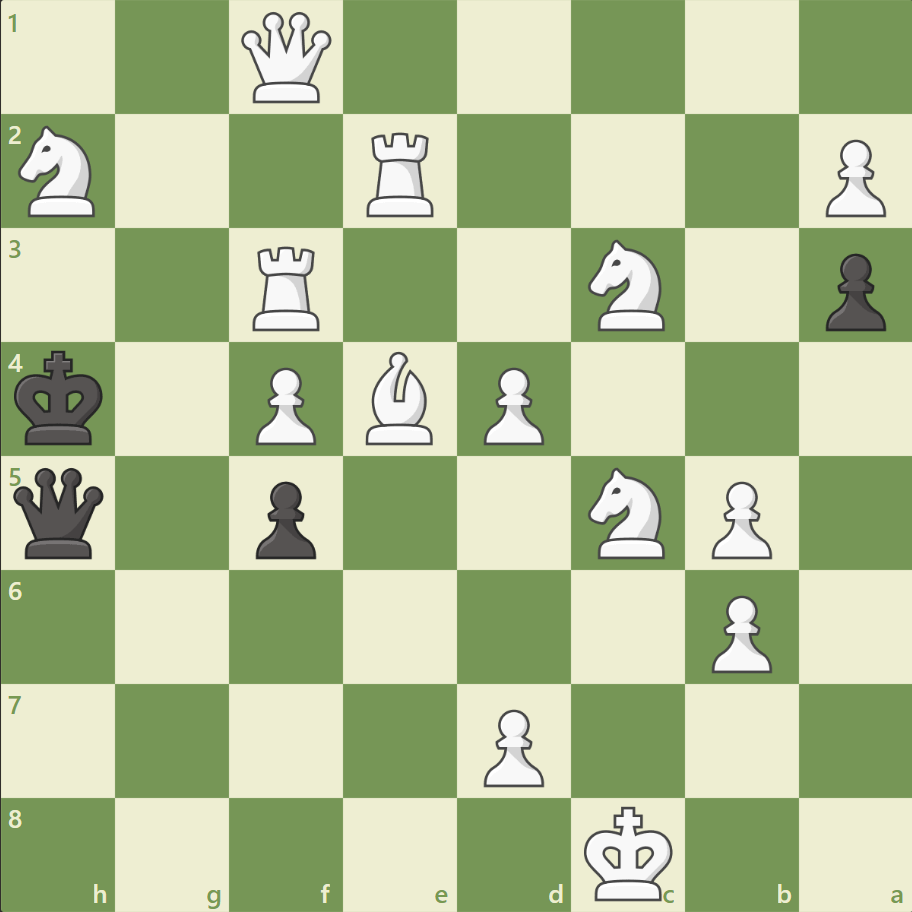B: (358, 347, 442, 449)
K: (579, 798, 679, 906)
N: (579, 461, 676, 564), (579, 234, 676, 337), (11, 121, 108, 223)
P: (474, 700, 549, 791), (701, 586, 776, 677), (701, 473, 776, 564), (474, 359, 549, 450), (247, 359, 322, 450), (815, 132, 889, 223)
Q: (237, 9, 336, 108)
R: (246, 239, 329, 336), (360, 125, 442, 222)
k: (11, 344, 111, 452)
p: (247, 473, 322, 564), (815, 246, 889, 337)
q: (10, 463, 109, 562)
